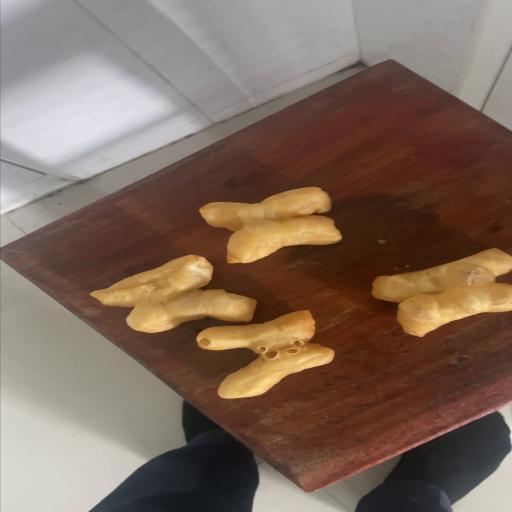street_golden_defect: (90, 254, 256, 333)
street_golden_good: (372, 249, 512, 335), (200, 187, 342, 263)
